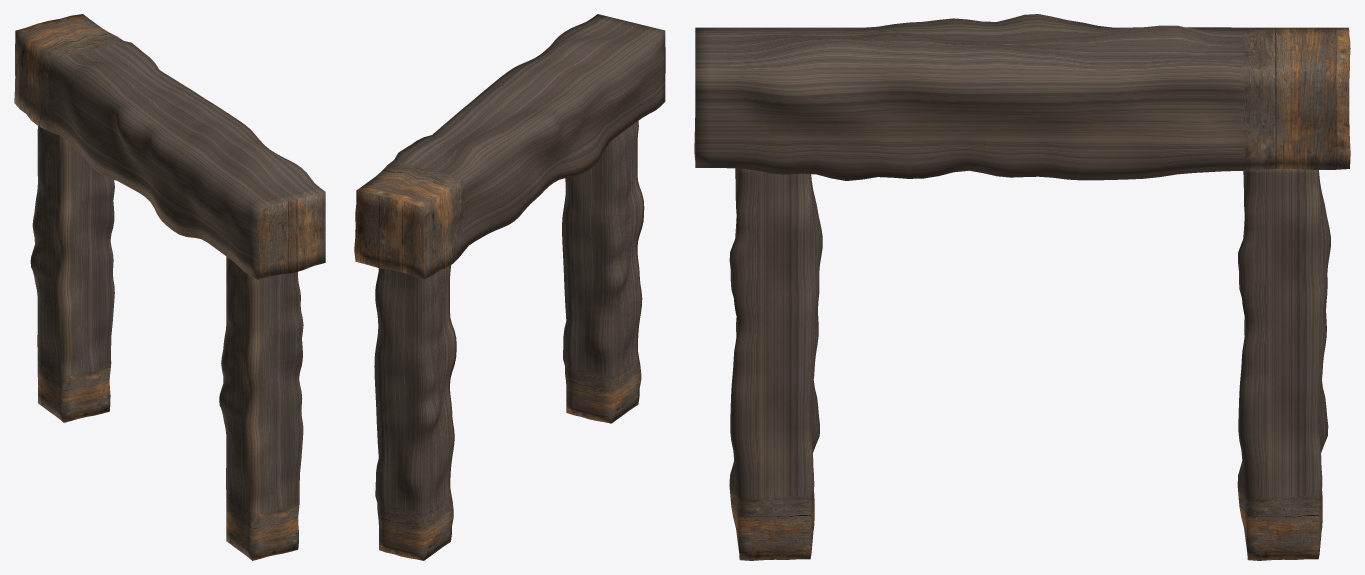
The picture shows the model from 3 angles, left to right: view 1: azimuth 30°, elevation 25°; view 2: azimuth 150°, elevation 25°; view 3: azimuth 270°, elevation 25°; orthographic projection. The views are drawn at different scales.
Parts seen in each view (by area): view 1: 立方体.003; view 2: 立方体.003; view 3: 立方体.003.
Part boxes in pixels (x1,y1,x2,y2): 立方体.003: [14, 14, 325, 560]; 立方体.003: [354, 14, 665, 560]; 立方体.003: [694, 14, 1350, 560].
Size of the model in its own units: 1.78 by 6.93 by 8.05.
Materials: 1 (1 with a texture image).
